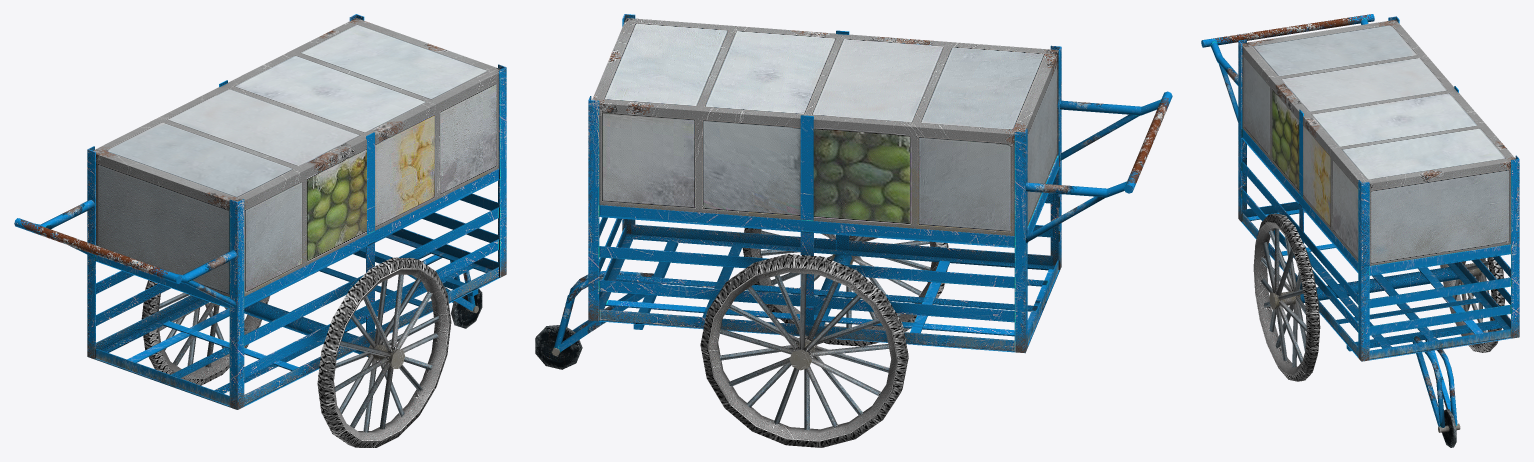
Rendered from prop2.glb.
3 views of the same model, side by side, from view 1: azimuth 30°, elevation 25°; view 2: azimuth 150°, elevation 25°; view 3: azimuth 270°, elevation 25° (orthographic). The views are drawn at different scales.
Visible parts, largest first — view 1: Fruit Cart_tex_FruitCart_0; view 2: Fruit Cart_tex_FruitCart_0; view 3: Fruit Cart_tex_FruitCart_0.
Boxes of the visible parts, box(x1,y1,x2,y2) form: Fruit Cart_tex_FruitCart_0: box(14, 14, 506, 447); Fruit Cart_tex_FruitCart_0: box(535, 14, 1172, 447); Fruit Cart_tex_FruitCart_0: box(1201, 14, 1519, 447).
Size of the model in its own units: 1.6 by 0.8925 by 0.9932.
Materials: 1 (1 with a texture image).
